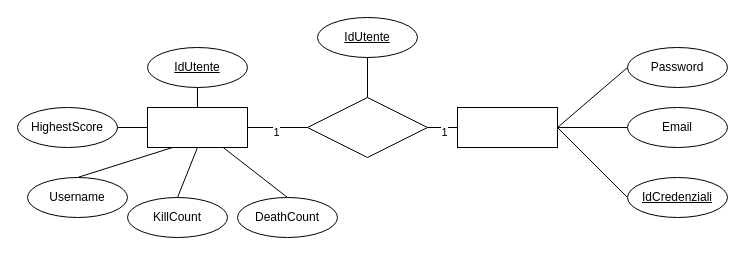
This 745x255 diagram has some shape labels left out. Here are the shapes that lost their labels. From the top down, the centre of each, then its label:
At (197,127): "Utente".
At (367,127): "Possiede".
At (507,127): "Credenziali".
